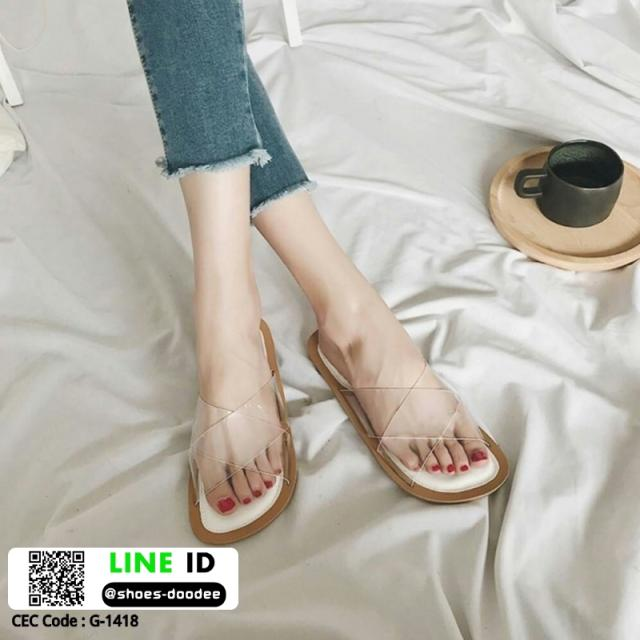Sandals: (138, 281, 552, 588)
